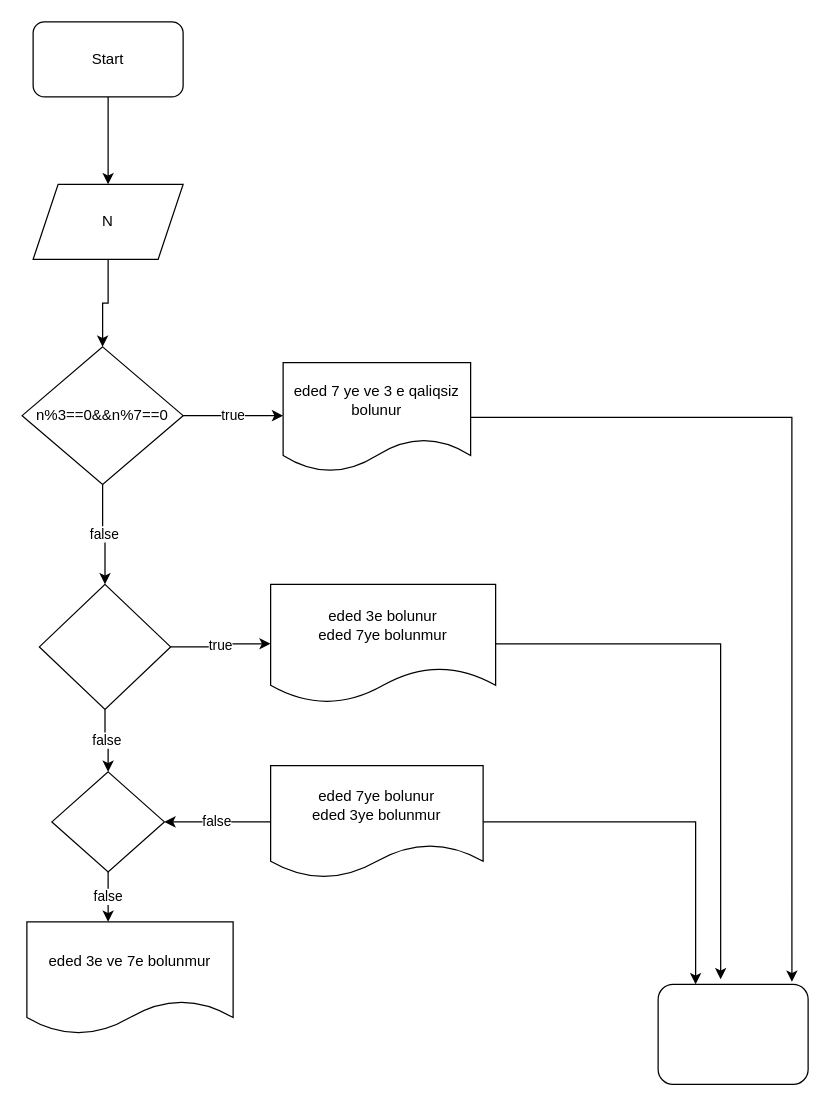
The diagram is 830 pixels wide and 1106 high, and some of its shapes have lost their labels. Each missing label, with the box of its shape:
end: (657, 983, 808, 1084)
n%3==0: (38, 583, 171, 709)
n%7==0: (51, 771, 164, 872)
